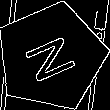N_NE: (20, 29, 83, 85)
